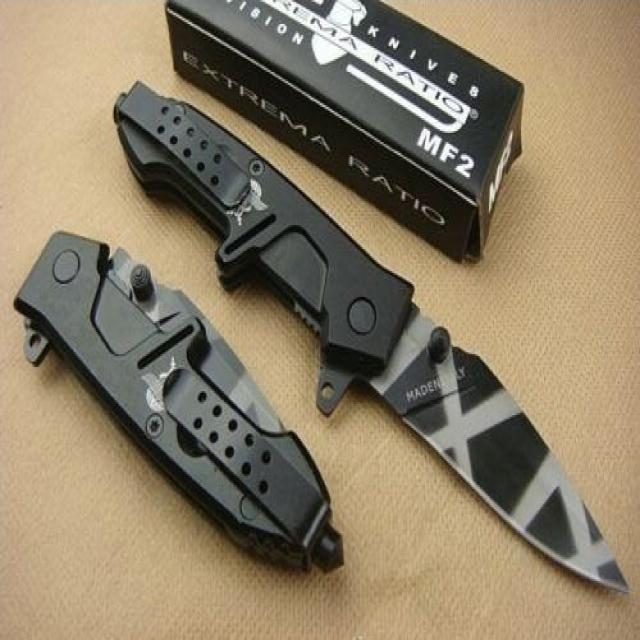knife: (111, 71, 633, 605)
